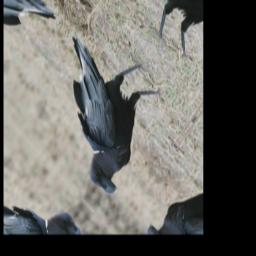Crow: (24, 10, 179, 202)
